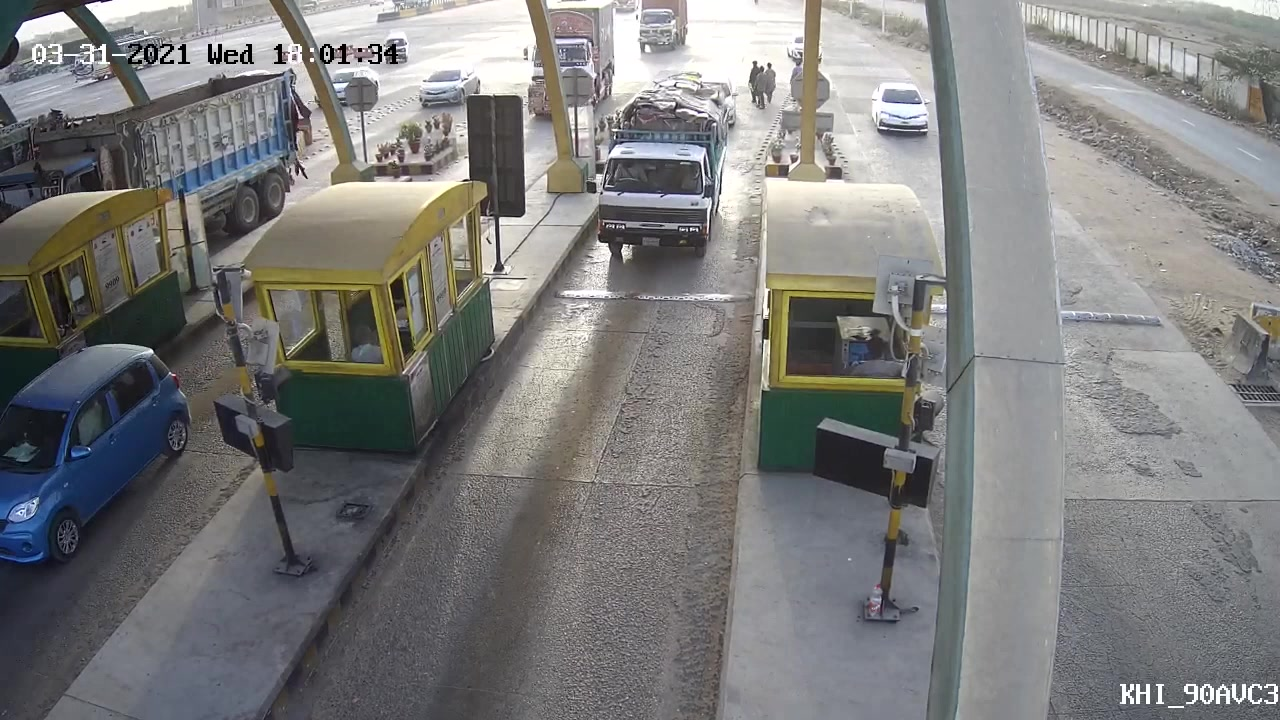F3: (588, 61, 745, 262)
